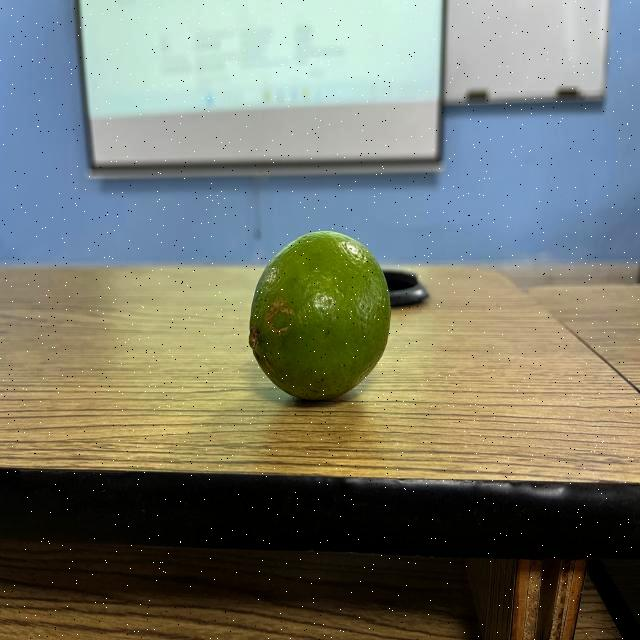Lemon: (247, 228, 393, 406)
